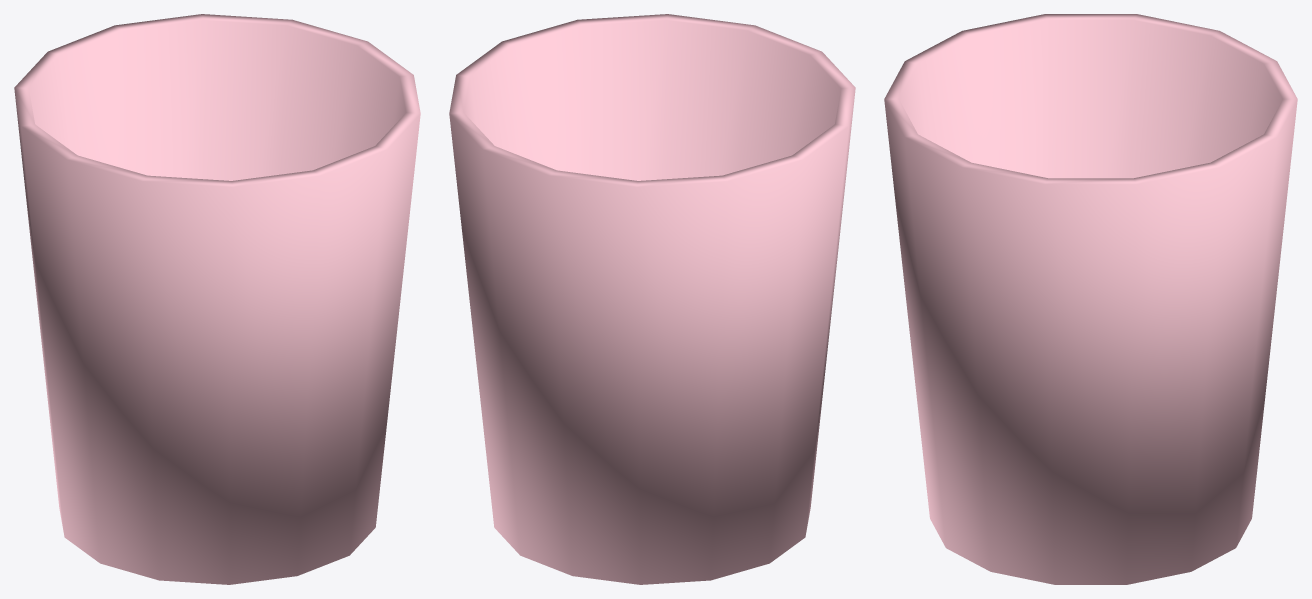
Rendered from Cup.fbx.
3 views of the same model, side by side, from view 1: azimuth 30°, elevation 25°; view 2: azimuth 150°, elevation 25°; view 3: azimuth 270°, elevation 25° (orthographic).
Parts seen in each view (by area): view 1: cup.001; view 2: cup.001; view 3: cup.001.
Part boxes in pixels (x1,y1,x2,y2): cup.001: (14, 14, 420, 584); cup.001: (449, 14, 855, 584); cup.001: (884, 14, 1297, 584).
Bounding box in the file's own units: 204 × 234 × 209.
